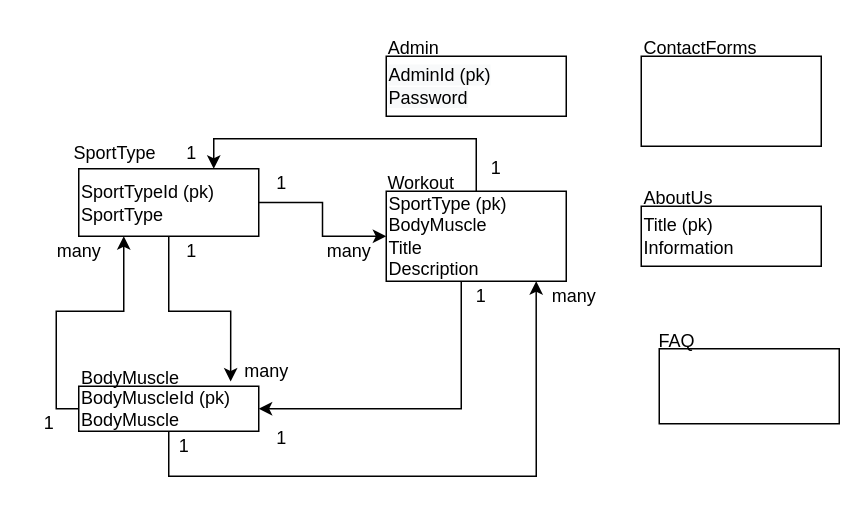
Image size: 866x515. Some labels were removed from this diagram. The shapes that lost their labels are listed below. From the top down, each one's box as (x1, y1, x2, y2) in pixels, then its label:
(640, 55, 821, 146): Name Email (pk) Question Answer
(658, 347, 839, 424): FAQId (pk) Question Answer
